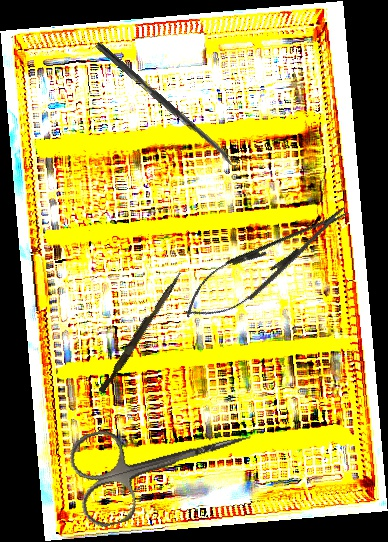Iris Scissors: (64, 393, 264, 532)
Needle Holder: (173, 191, 360, 335)
Pusher: (98, 268, 183, 396)
Surgical Spoon: (94, 41, 239, 169)
